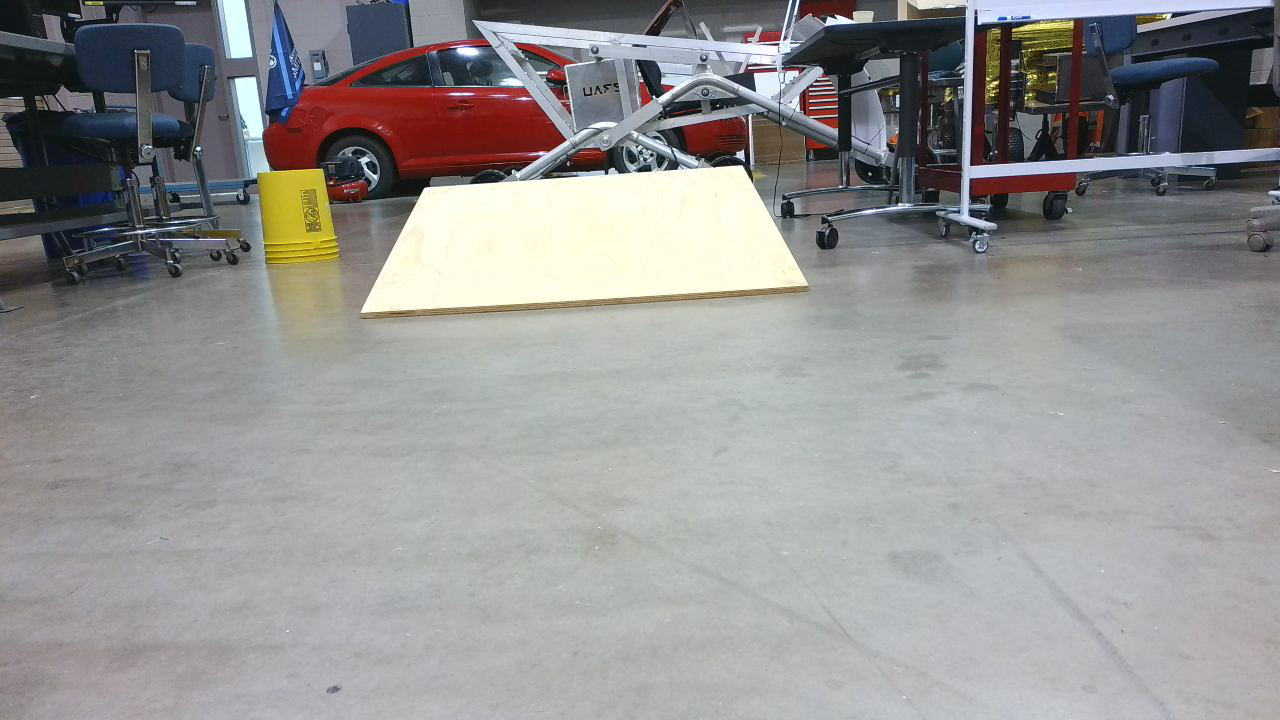concrete_block: (368, 171, 814, 320)
yellow_bucket: (259, 173, 347, 269)
